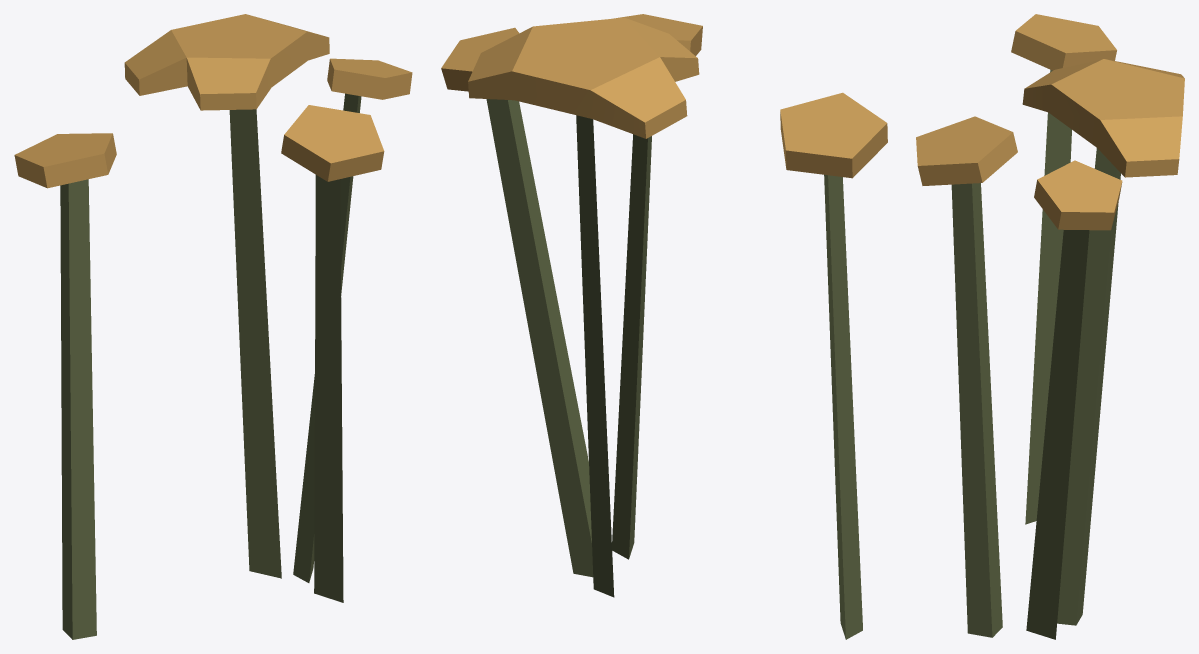
The model's file is SM_Prop_Flowers_01.fbx.
3 renders of one model, left to right at view 1: azimuth 30°, elevation 25°; view 2: azimuth 150°, elevation 25°; view 3: azimuth 270°, elevation 25°, orthographic. The views are drawn at different scales.
Parts seen in each view (by area): view 1: SM_Prop_Flowers_01; view 2: SM_Prop_Flowers_01; view 3: SM_Prop_Flowers_01.
Part boxes in pixels (box(x1,y1,x2,y2)): SM_Prop_Flowers_01: box(14, 14, 412, 639); SM_Prop_Flowers_01: box(441, 14, 887, 639); SM_Prop_Flowers_01: box(916, 14, 1184, 639).
Bounding box in the file's own units: 57.01 × 74.55 × 34.09.
Materials: 1 (1 with a texture image).
